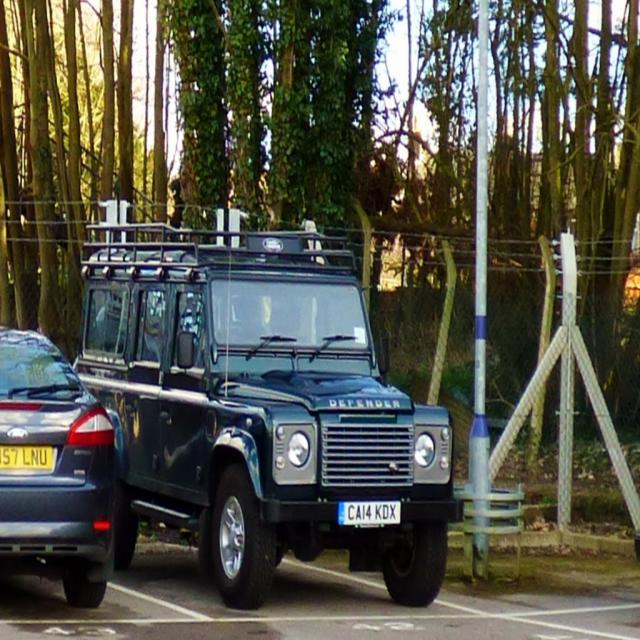other: (0, 324, 122, 615)
